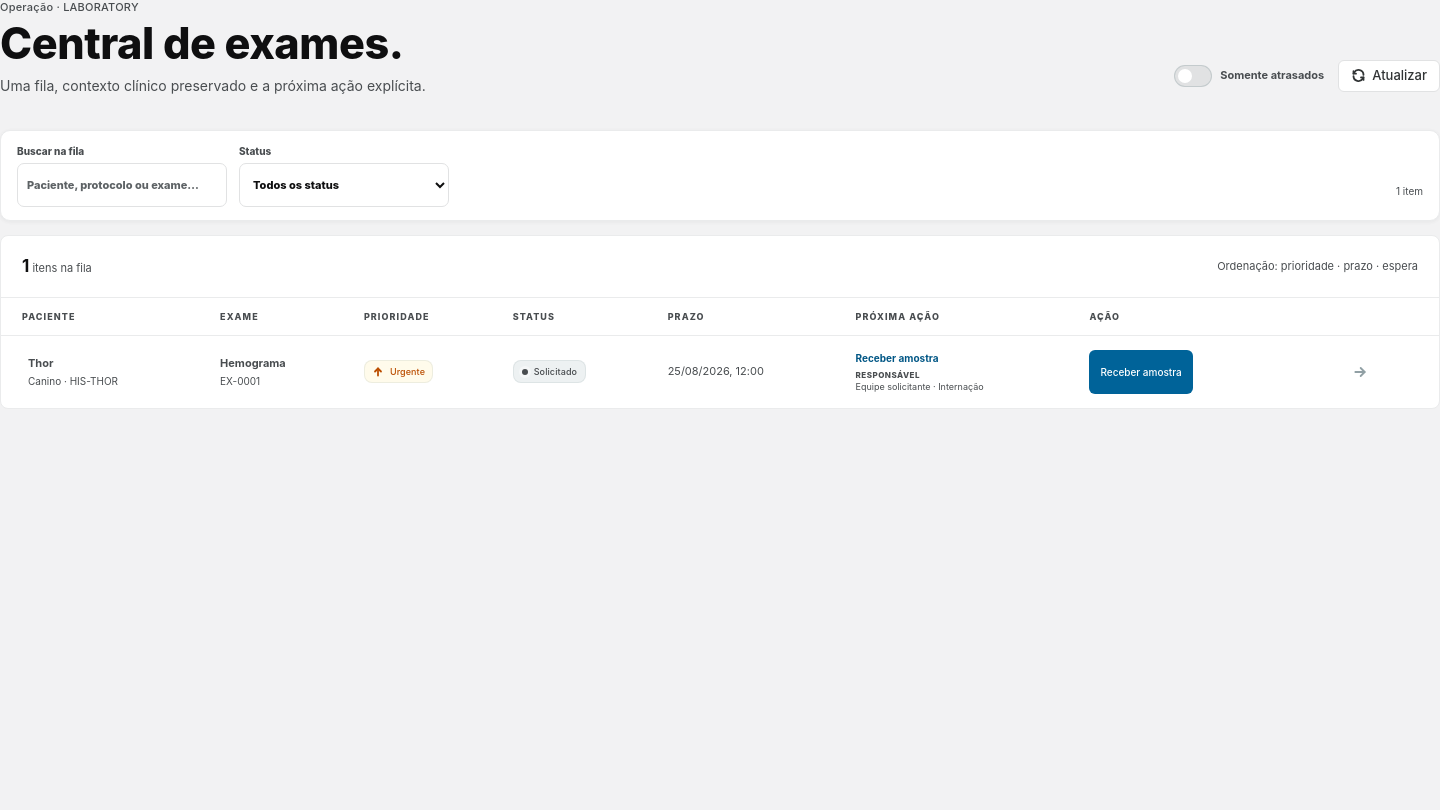
Test: ExamQueue › covers mobile filters, drawer activation and the responsive media subscription
The image size is (1440, 810).
Expected: the table named "Fila de exames" is shown, [1,298,1439,408]
Type "thor" into the field named "Buscar paciente ou exame".
click(122, 185); type("thor")  # box [17,163,227,207]
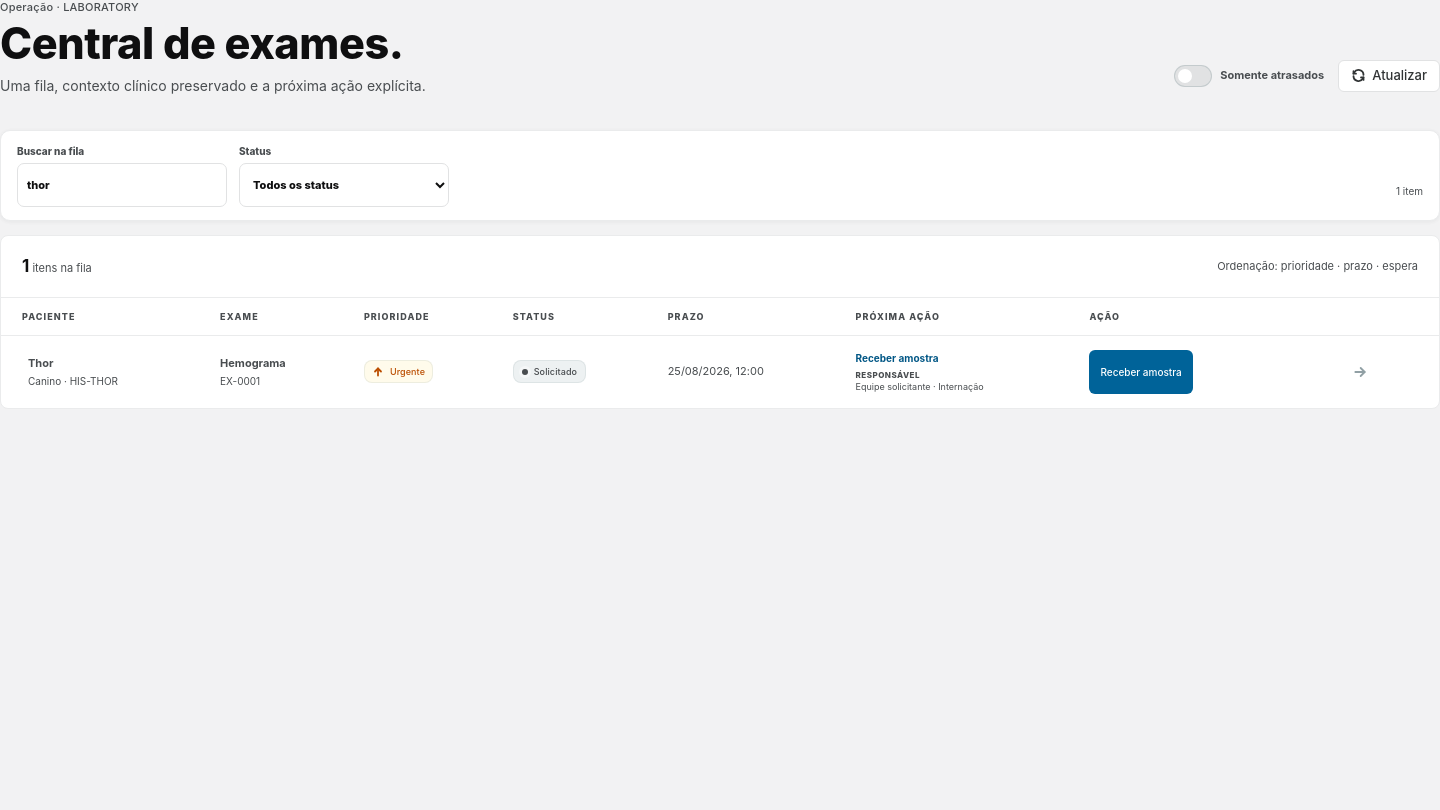
Select "Solicitado" in the dropdown named "Filtrar por status" at (344, 185), box [239,163,449,207]
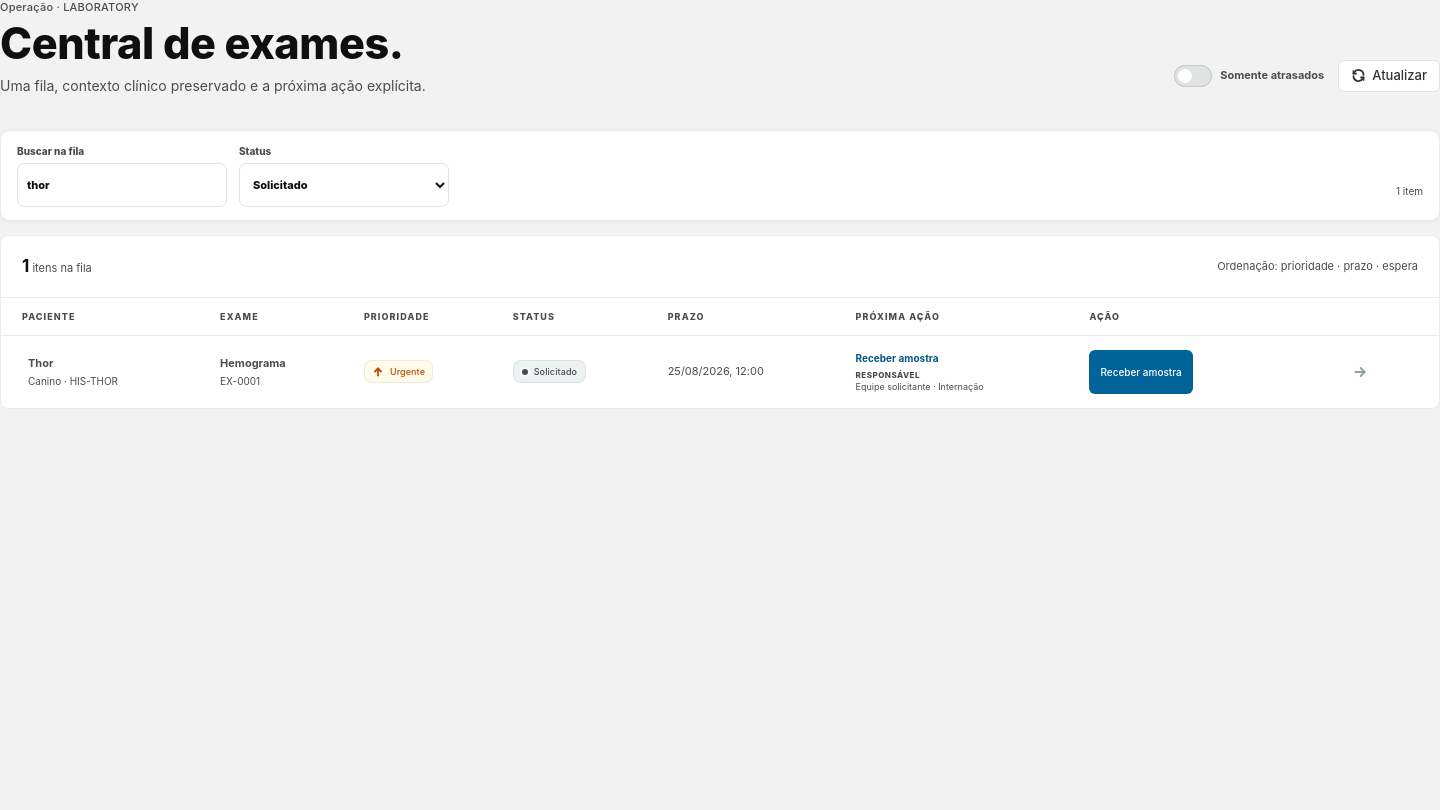
Click the checkbox labelled "Somente atrasados".
click(1249, 76)  # box [1174,65,1324,87]
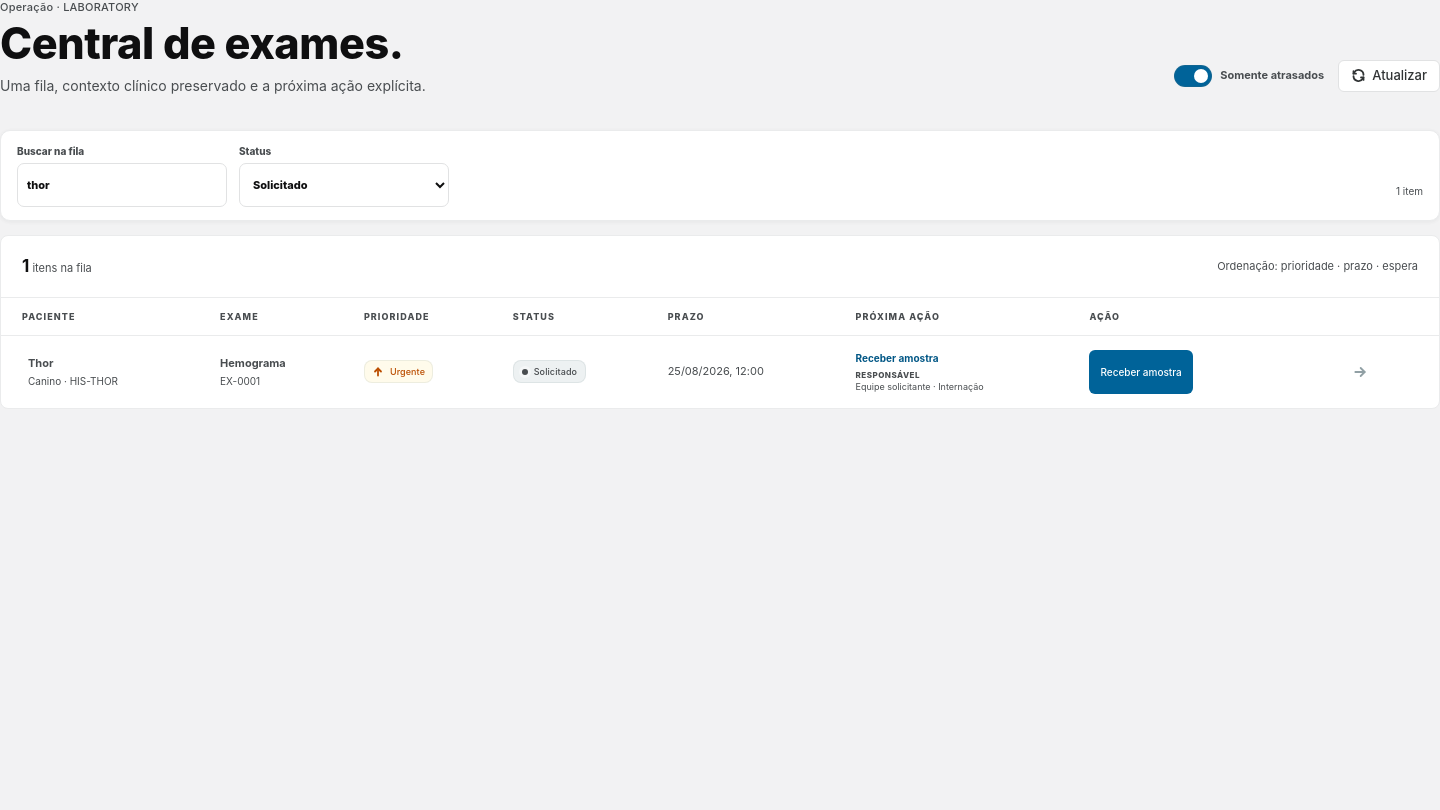
Click the button "Thor Canino · HIS-THOR".
click(104, 372)  # box [22,350,186,394]
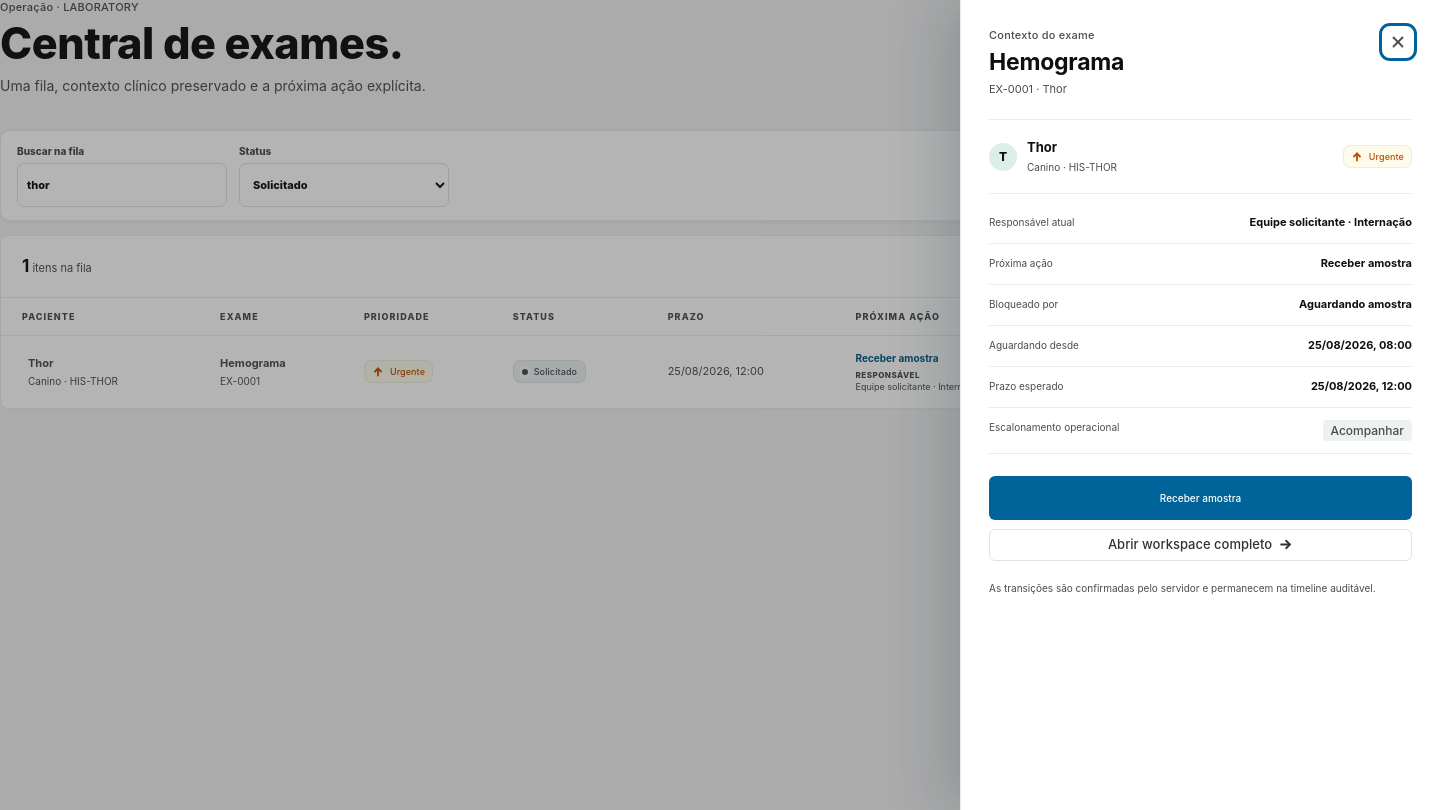
Expected: the dialog "Hemograma" is shown, [960,0,1439,809]
Click the button named "Fechar contexto".
click(1398, 42)  # box [1384,28,1412,56]
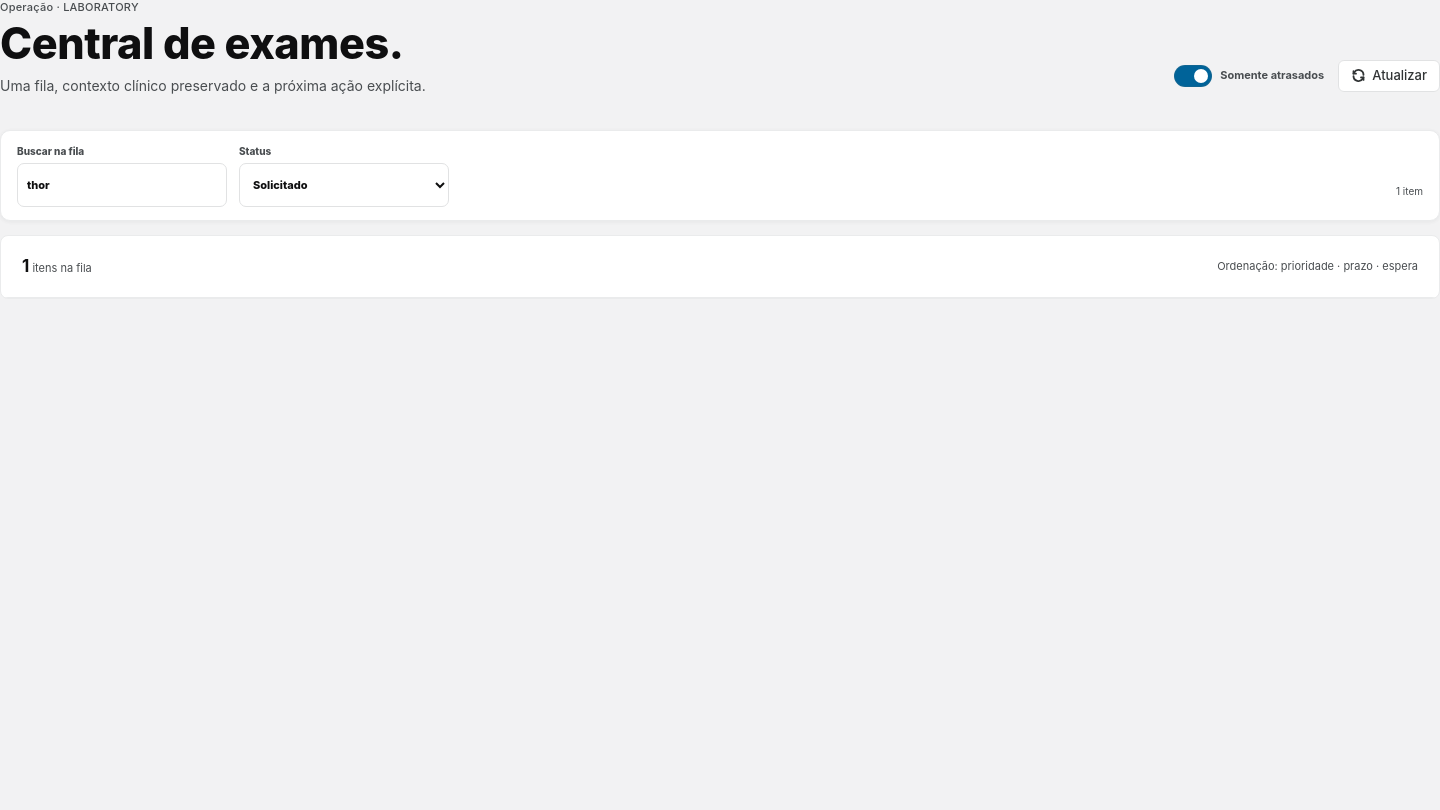
Expected: the button "Hemograma" is gone
